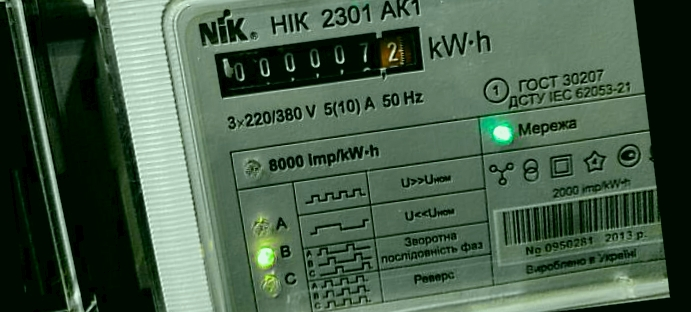0: (231, 58, 248, 83), (307, 45, 324, 70), (282, 50, 298, 74), (332, 42, 348, 66), (257, 55, 273, 78)
2: (385, 39, 401, 63)
7: (358, 38, 373, 64)
screen: (203, 14, 436, 107)
